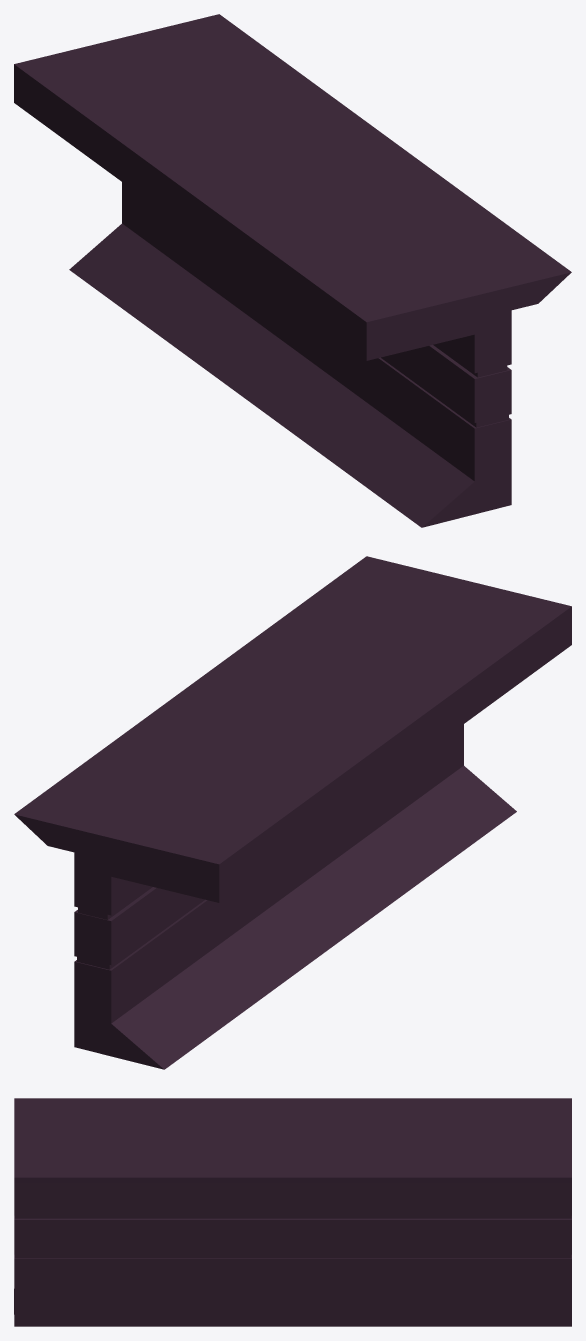
The model's file is barTable2.fbx.
3 views of the same model, one above another, from view 1: azimuth 30°, elevation 25°; view 2: azimuth 150°, elevation 25°; view 3: azimuth 270°, elevation 25° (orthographic). The views are drawn at different scales.
Parts seen in each view (by area): view 1: barTable.001; view 2: barTable.001; view 3: barTable.001.
Boxes of the visible parts, x1,y1,x2,y2 form: barTable.001: [14, 14, 571, 527]; barTable.001: [14, 556, 571, 1069]; barTable.001: [14, 1098, 571, 1326].
Bounding box in the file's own units: 0.3016 × 0.3072 × 0.8976.
